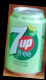sevenup: (5, 7, 44, 75)
